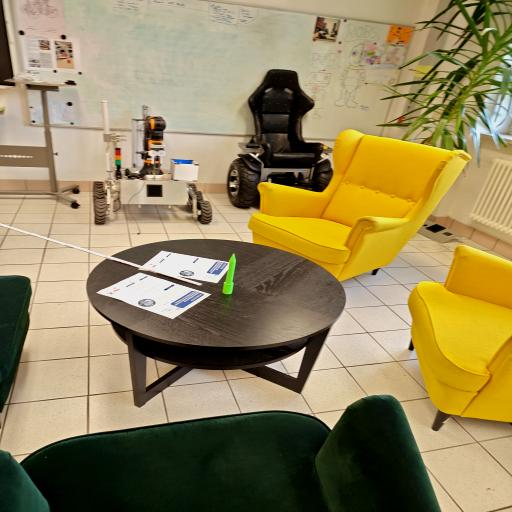Probe-Detection: (222, 254, 236, 294)
